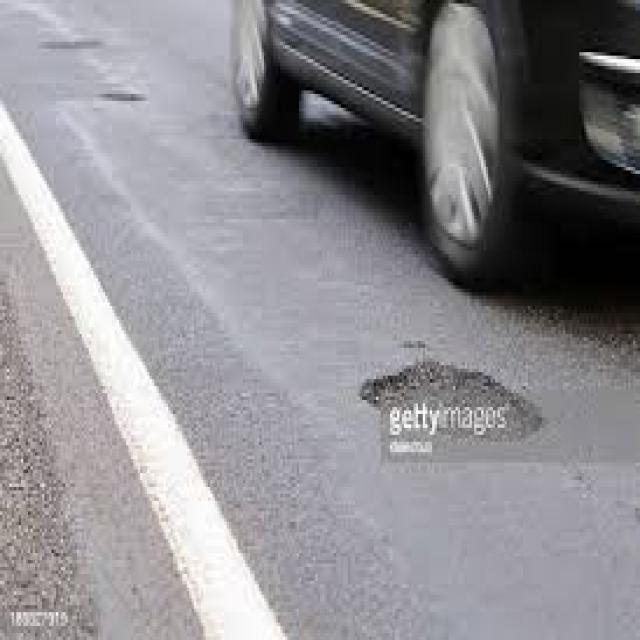Pothole: (357, 362, 547, 456)
